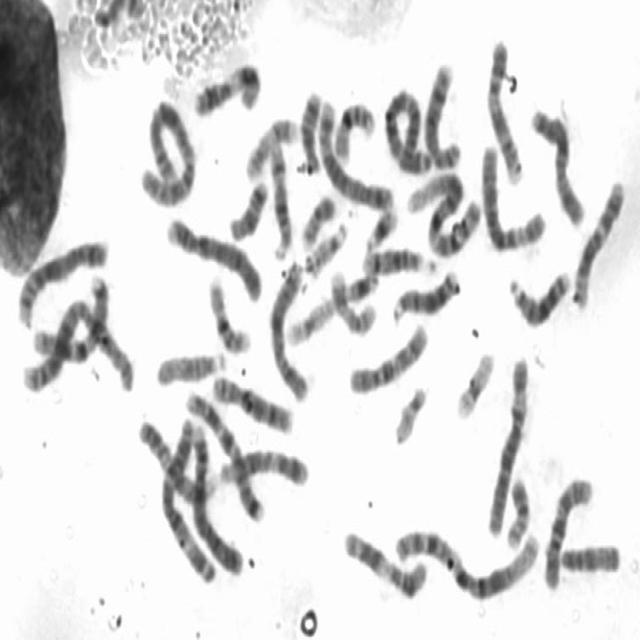A1: (388, 520, 544, 602), (401, 164, 483, 259)
A2: (24, 294, 137, 400), (137, 94, 197, 210)
A3: (155, 412, 218, 588), (380, 79, 434, 176)
B4: (162, 208, 266, 306), (185, 414, 246, 579)
B5: (313, 92, 396, 214), (15, 232, 111, 330)
C10: (539, 466, 595, 592), (344, 317, 430, 398)
C11: (339, 522, 429, 602), (189, 56, 263, 120)
C12: (569, 168, 628, 312), (212, 442, 311, 493)
C6: (483, 347, 531, 541), (475, 135, 548, 252)
C7: (182, 385, 266, 525), (29, 273, 114, 368)
C8: (208, 368, 296, 436), (421, 55, 463, 170)
C9: (134, 414, 219, 508), (483, 30, 525, 186)
D13: (504, 262, 574, 328), (388, 263, 462, 323)
D14: (266, 137, 296, 260), (359, 240, 438, 278)
D15: (153, 344, 229, 388), (556, 535, 622, 578)
E16: (206, 270, 254, 357), (331, 95, 377, 164)
E17: (242, 109, 300, 183), (327, 264, 377, 336)
E18: (226, 172, 270, 244), (296, 84, 324, 174)
F19: (452, 344, 498, 422), (284, 294, 334, 348)
F20: (501, 468, 533, 550), (298, 190, 338, 252)
G21: (362, 200, 401, 252), (343, 265, 379, 304)
G22: (302, 212, 350, 278), (390, 378, 430, 447)
X: (527, 99, 587, 231), (266, 259, 312, 404)
